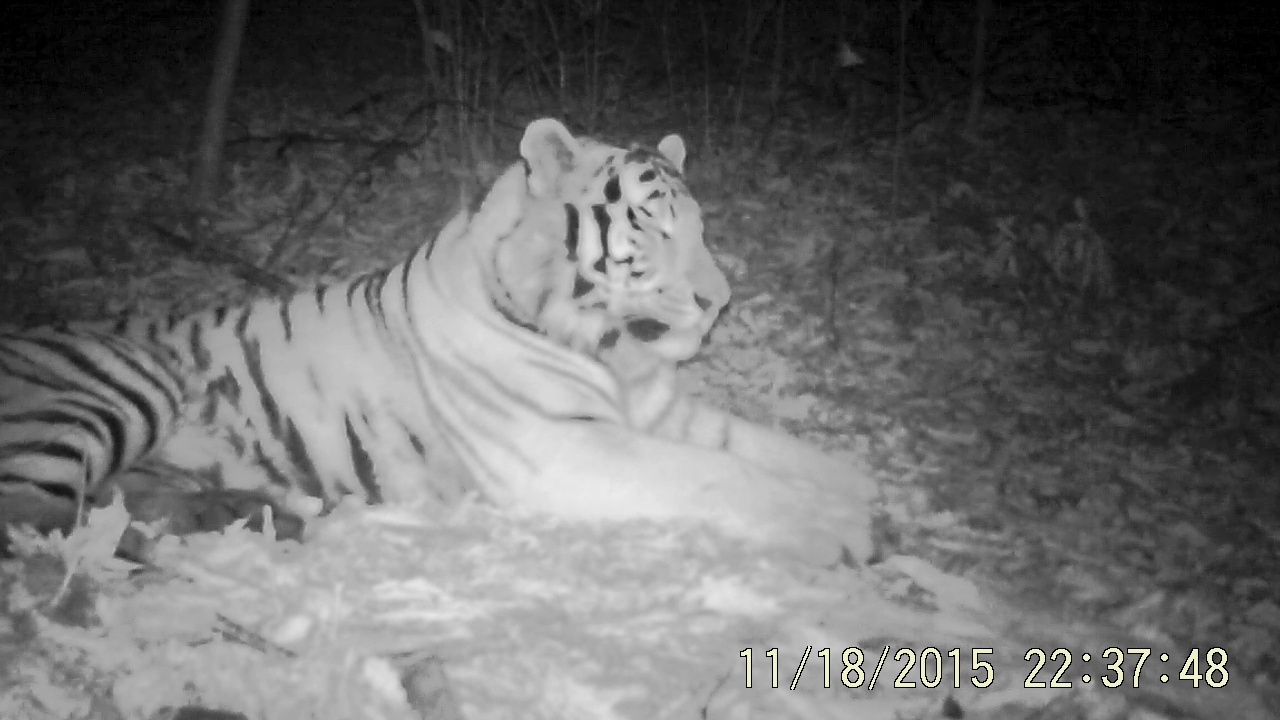Tiger: (3, 32, 974, 628)
